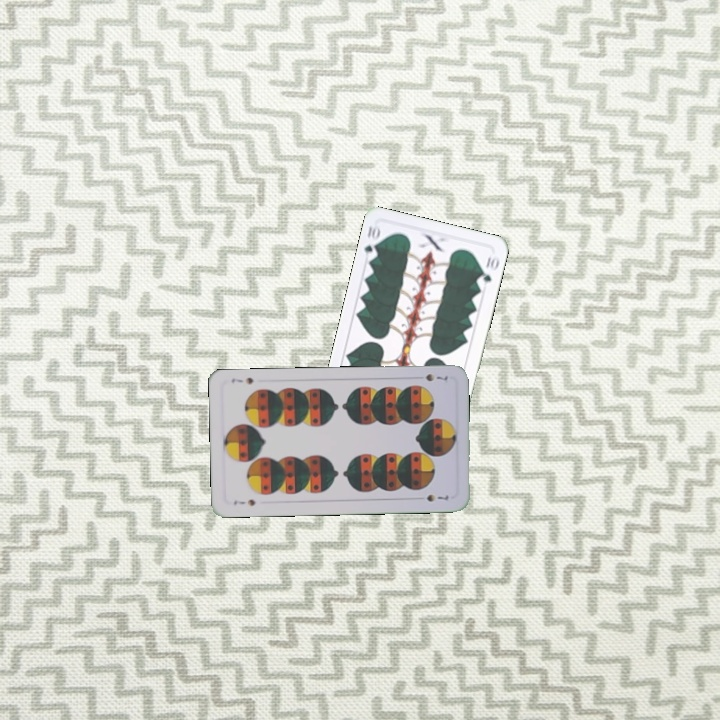G10: (360, 221, 383, 262)
S7: (421, 370, 450, 384), (230, 495, 258, 508)
